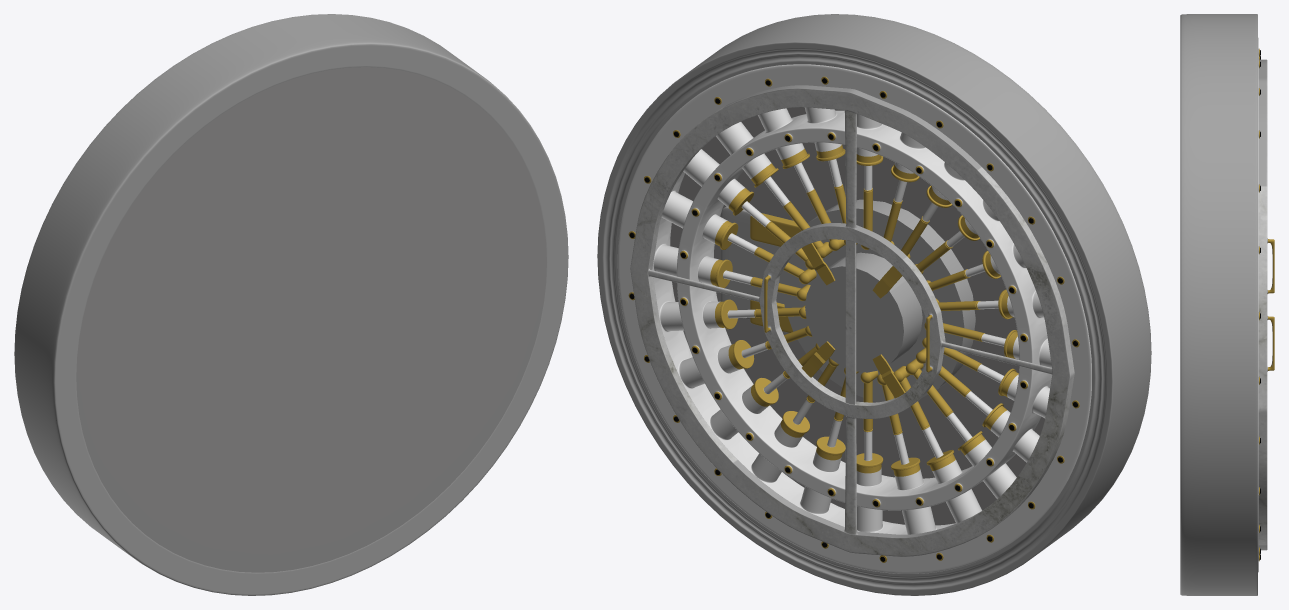
Rendered from VAULT_DOOR_PLEASEEEE_MAKEITLOOKGOOD.fbx.
3 renders of one model, left to right at view 1: azimuth 30°, elevation 25°; view 2: azimuth 150°, elevation 25°; view 3: azimuth 270°, elevation 25°, orthographic. The views are drawn at different scales.
Parts seen in each view (by area): view 1: Base, Outer_Frame; view 2: Pistons, Outer_Frame, Inner_Frame, Base, Center, Door_Mechanism, Ball_Joints; view 3: Outer_Frame, Inner_Frame, Pistons.
Boxes of the visible parts, left/top/right/bottom form: Base: left=76, top=67, right=546, bottom=572; Outer_Frame: left=14, top=14, right=568, bottom=595; Pistons: left=617, top=64, right=1091, bottom=573; Outer_Frame: left=597, top=14, right=1151, bottom=595; Inner_Frame: left=630, top=85, right=1074, bottom=556; Base: left=670, top=107, right=1044, bottom=525; Center: left=782, top=199, right=975, bottom=401; Door_Mechanism: left=721, top=206, right=801, bottom=332; Ball_Joints: left=796, top=239, right=938, bottom=385; Outer_Frame: left=1180, top=14, right=1257, bottom=595; Inner_Frame: left=1258, top=59, right=1274, bottom=550; Pistons: left=1258, top=37, right=1260, bottom=572.
Bounding box in the file's own units: 1.87 × 1.87 × 0.303.
Materials: 7 (7 with a texture image).
